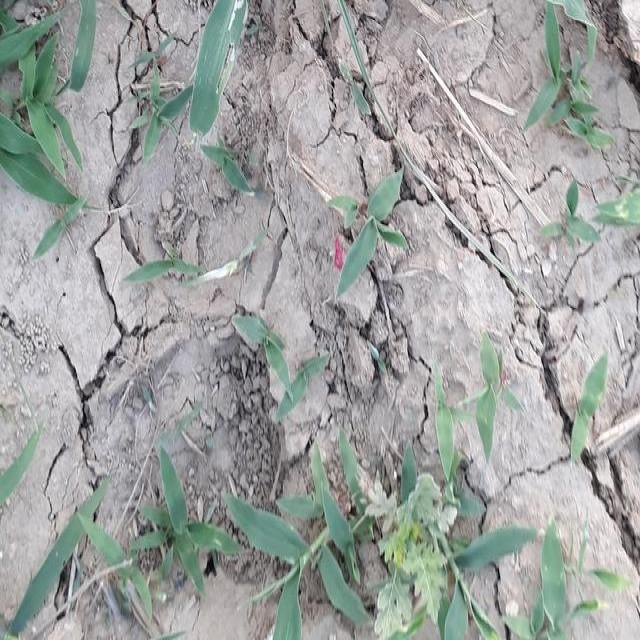weed: (14, 471, 578, 640), (0, 0, 98, 224), (321, 169, 419, 306)
